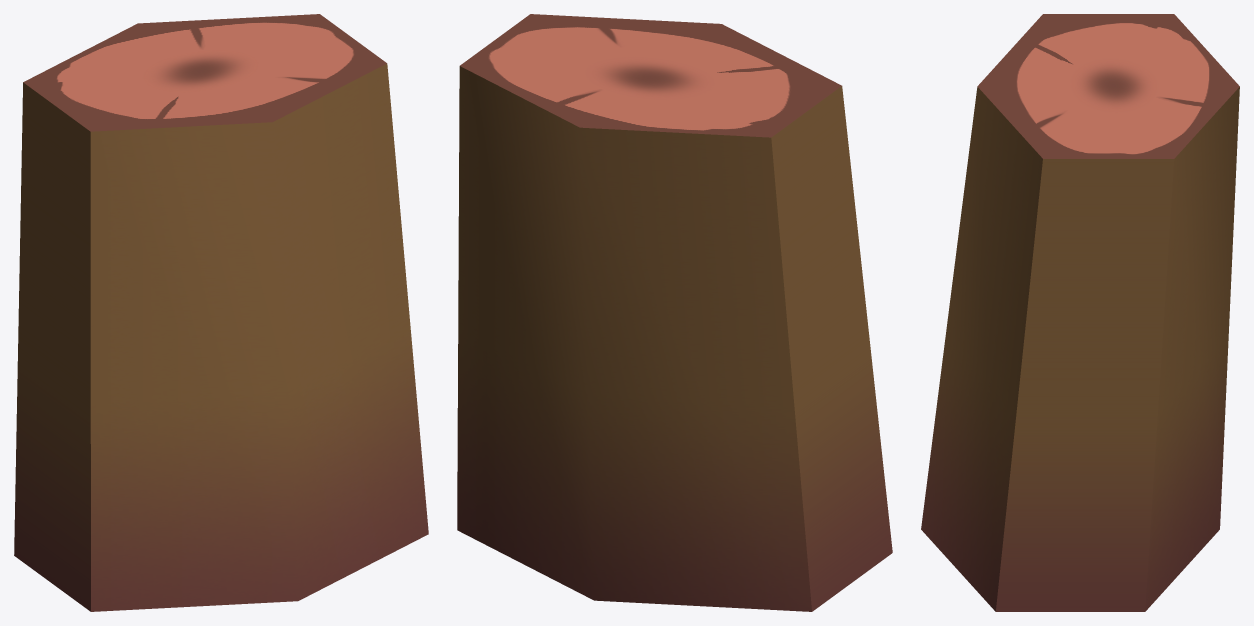
File: Low_Poly_Forest_treeTall06.glb
The picture shows the model from 3 angles, left to right: view 1: azimuth 30°, elevation 25°; view 2: azimuth 150°, elevation 25°; view 3: azimuth 270°, elevation 25°; orthographic projection. The views are drawn at different scales.
Parts seen in each view (by area): view 1: bark; view 2: bark; view 3: bark.
Boxes of the visible parts, bbox=[...] form: bark: bbox=[14, 14, 428, 611]; bark: bbox=[457, 14, 892, 611]; bark: bbox=[921, 14, 1239, 611].
Size of the model in its own units: 0.7791 by 1.02 by 0.6545.
1 material, 1 textured.
